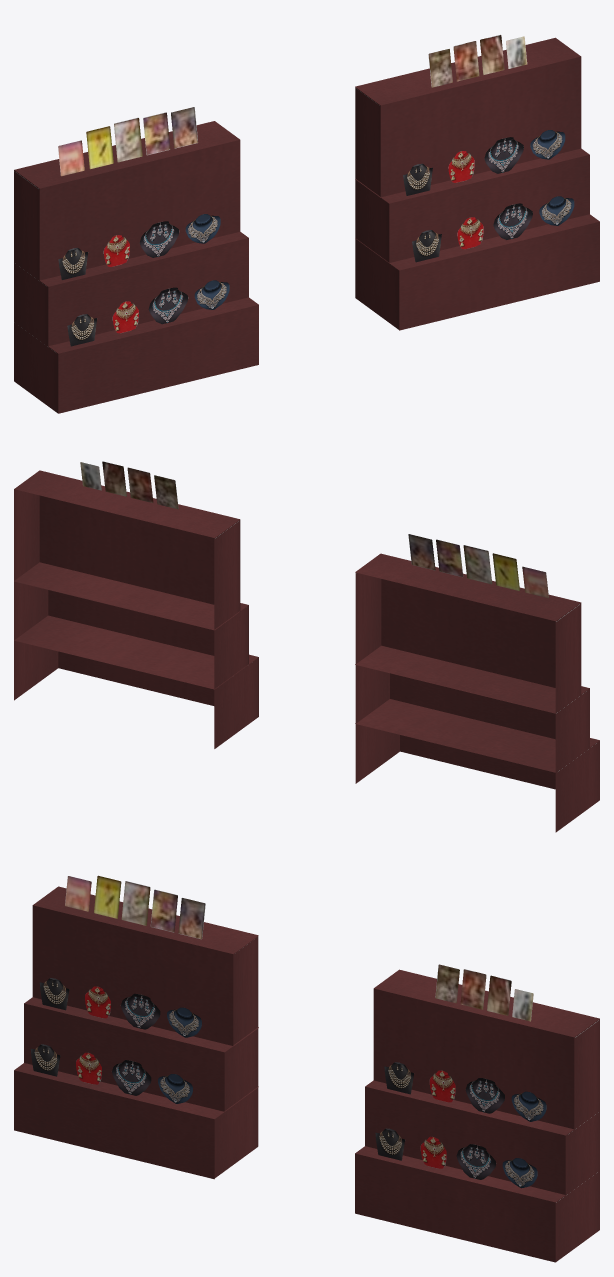
3 renders of one model, top to bottom at view 1: azimuth 30°, elevation 25°; view 2: azimuth 150°, elevation 25°; view 3: azimuth 330°, elevation 25°, orthographic.
Visible parts, largest first — view 1: sd_10; view 2: sd_10; view 3: sd_10.
Boxes of the visible parts, left/top/right/bottom form: sd_10: left=14, top=34, right=599, bottom=413; sd_10: left=14, top=461, right=599, bottom=832; sd_10: left=14, top=875, right=599, bottom=1262.
Size of the model in its own units: 25.06 by 3.56 by 11.21.
Materials: 1 (1 with a texture image).
